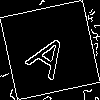A: (25, 25, 79, 81)
